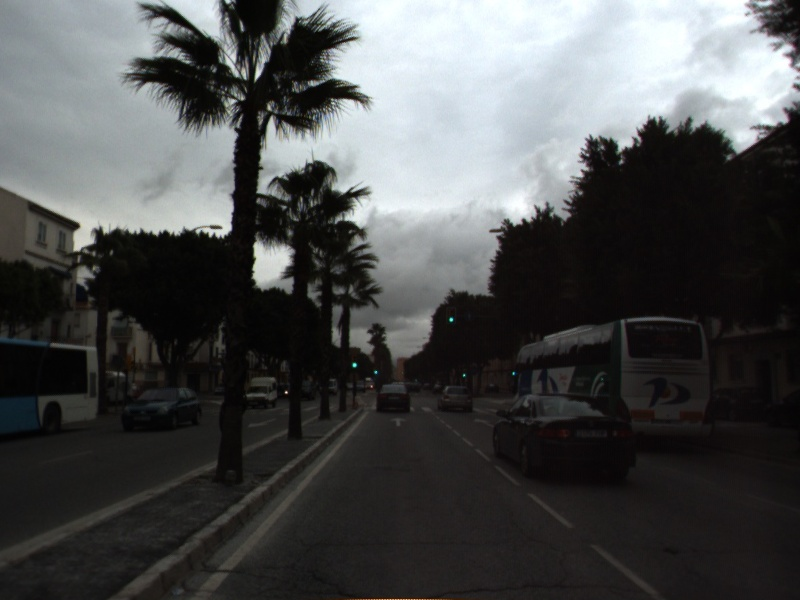STRAIGHT: (472, 415, 496, 428), (387, 415, 409, 428)
